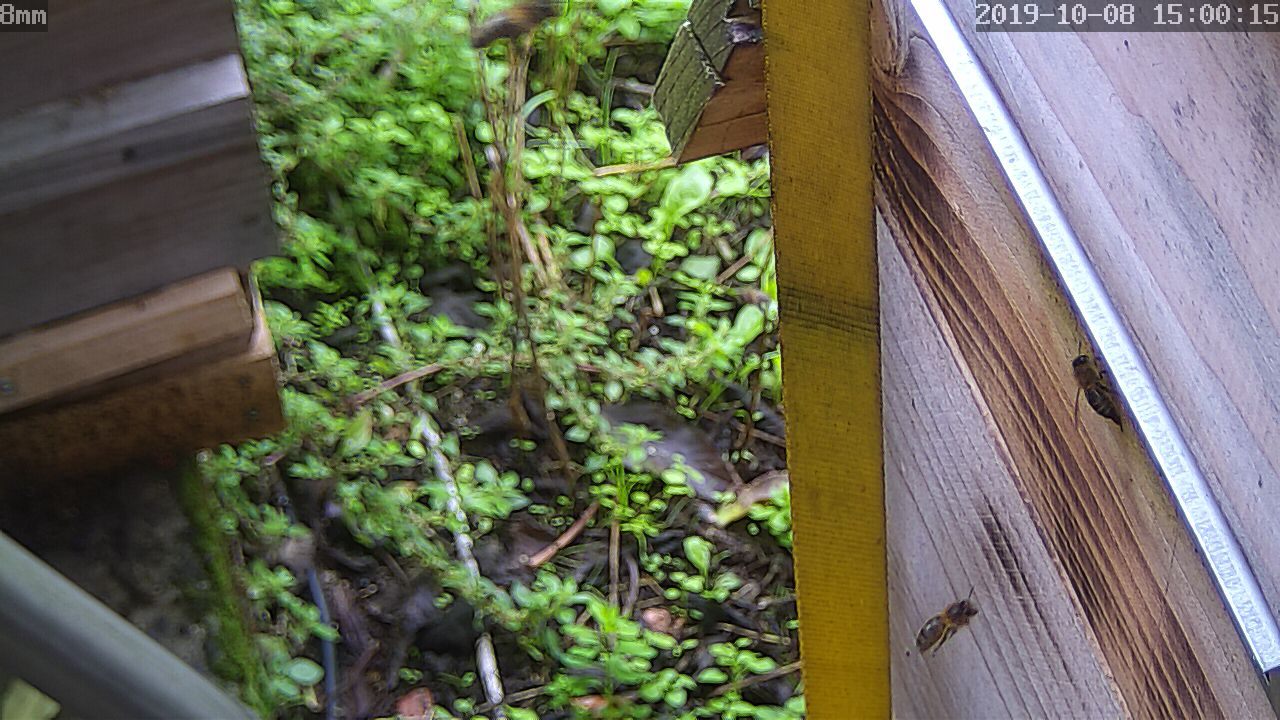bee: (911, 588, 986, 665), (1060, 338, 1124, 428)
